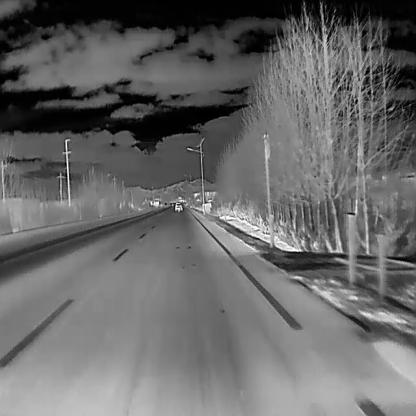car: (174, 202, 182, 210)
